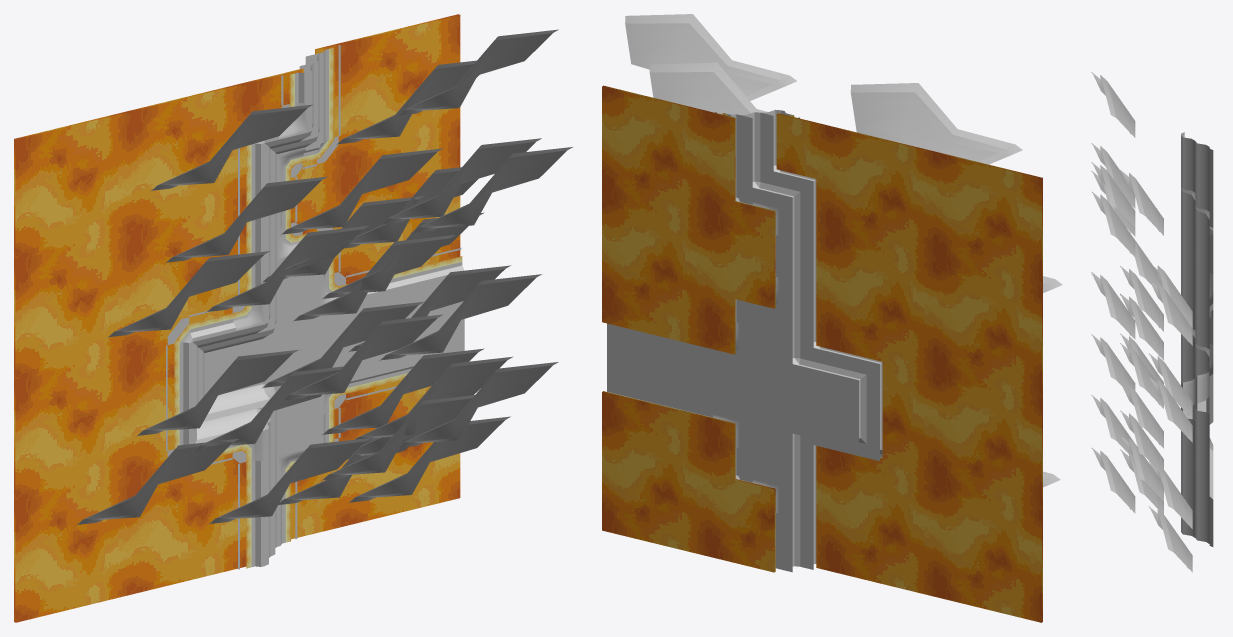
Rendered from Molten-Cave_00_01.obj.
3 views of the same model, side by side, from view 1: azimuth 30°, elevation 25°; view 2: azimuth 150°, elevation 25°; view 3: azimuth 270°, elevation 25° (orthographic). The views are drawn at different scales.
Visible parts, largest first — view 1: map; view 2: map; view 3: map.
Part boxes in pixels (x1,y1,x2,y2): map: (14,14,572,622); map: (602,14,1062,622); map: (1091,72,1213,572).
Size of the model in its own units: 35.58 by 34.34 by 8.9.
